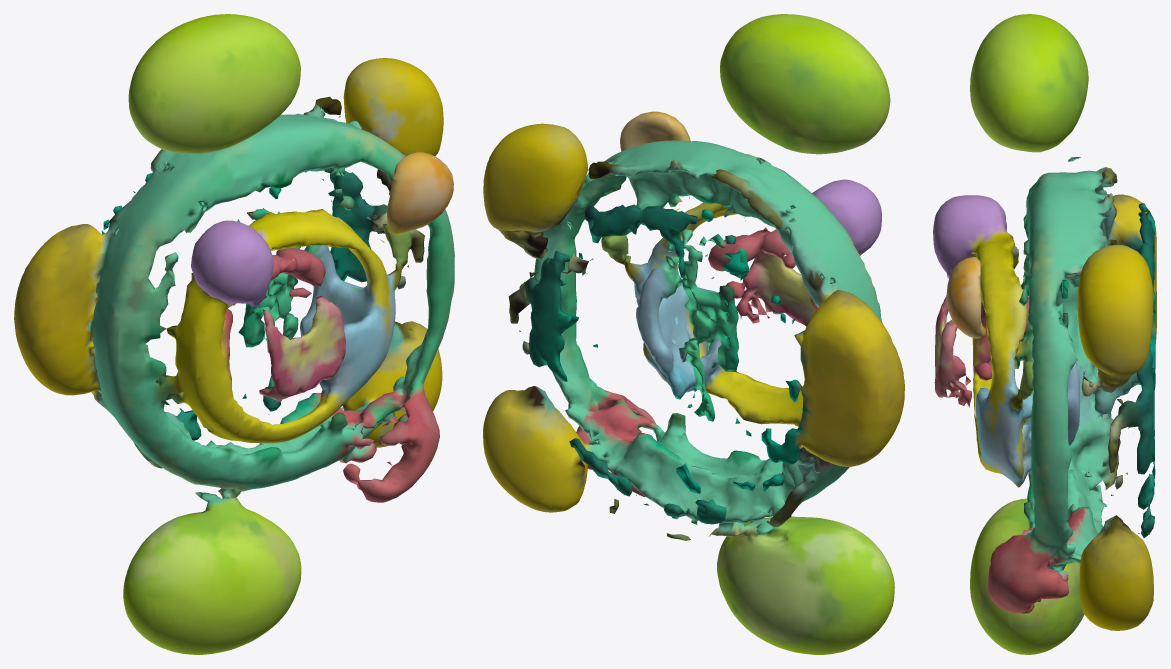
File: turtle.glb
3 renders of one model, left to right at view 1: azimuth 30°, elevation 25°; view 2: azimuth 150°, elevation 25°; view 3: azimuth 270°, elevation 25°, orthographic.
Size of the model in its own units: 0.6964 by 0.9997 by 0.3288.
